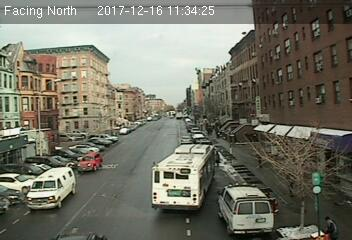bus: (148, 142, 217, 215)
car: (76, 152, 103, 172)
police: (216, 181, 276, 234)
truck: (25, 166, 77, 214)
